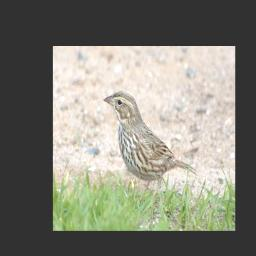Sparrow: (102, 87, 198, 214)
